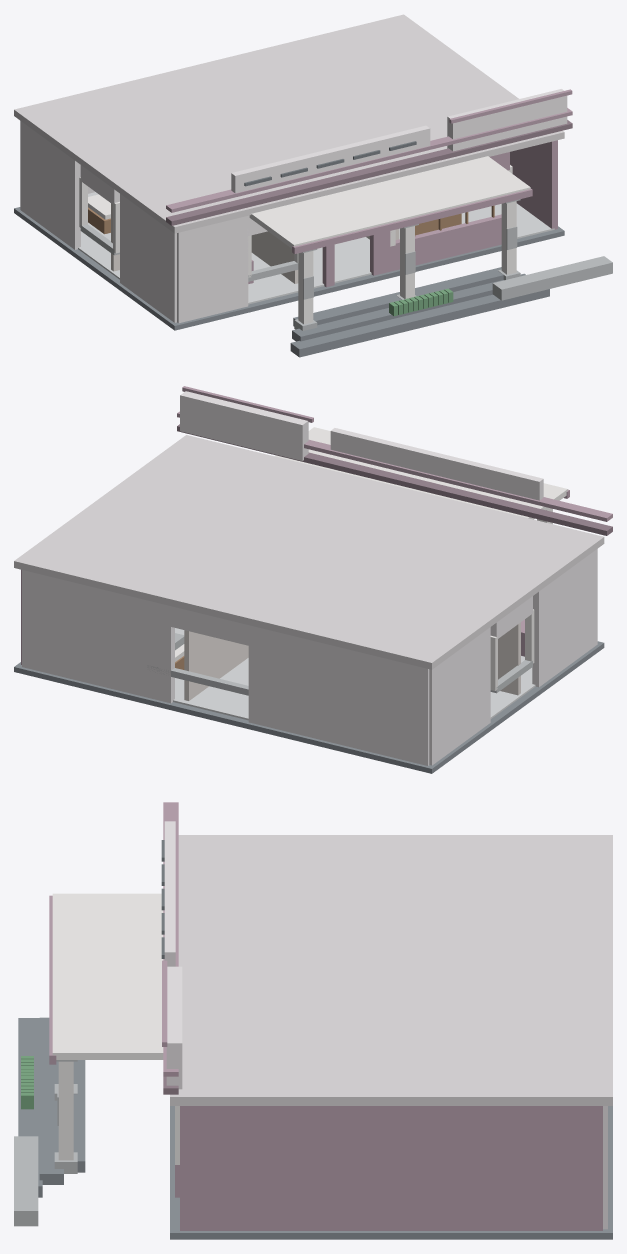
3 views of the same model, one above another, from view 1: azimuth 30°, elevation 25°; view 2: azimuth 150°, elevation 25°; view 3: azimuth 270°, elevation 25° (orthographic). The views are drawn at different scales.
Visible parts, largest first — view 1: House_roof, House_wall, House_white, House_mauve, House_stoneDark, House_floor, House_stone, House_trim, House_interior, House_wood, House_green, House_metal; view 2: House_roof, House_wall, House_stoneDark, House_trim, House_interior, House_white, House_mauve, House_floor, House_stone; view 3: House_roof, House_mauve, House_white, House_stoneDark, House_wall, House_stone, House_green.
Boxes of the visible parts, x1,y1,x2,y2 form: House_roof: (14, 14, 564, 233); House_wall: (20, 89, 567, 323); House_white: (79, 156, 530, 324); House_mauve: (166, 89, 572, 287); House_stoneDark: (14, 207, 564, 357); House_floor: (78, 192, 554, 304); House_stone: (80, 199, 612, 330); House_trim: (166, 120, 572, 225); House_interior: (111, 203, 399, 283); House_wood: (88, 205, 494, 236); House_green: (389, 288, 453, 316); House_metal: (244, 141, 416, 186); House_roof: (14, 435, 604, 669); House_wall: (22, 391, 597, 765); House_stoneDark: (14, 641, 604, 773); House_trim: (177, 424, 612, 535); House_interior: (184, 622, 520, 700); House_white: (175, 427, 567, 690); House_mauve: (21, 386, 612, 664); House_floor: (173, 628, 535, 720); House_stone: (147, 633, 532, 695); House_roof: (170, 835, 612, 1105); House_mauve: (49, 802, 602, 1230); House_white: (52, 893, 179, 1164); House_stoneDark: (18, 1017, 612, 1239); House_wall: (164, 821, 607, 1229); House_stone: (14, 1060, 77, 1226); House_green: (21, 1056, 33, 1109).
Size of the model in its own units: 14.4 by 5.12 by 13.52.
